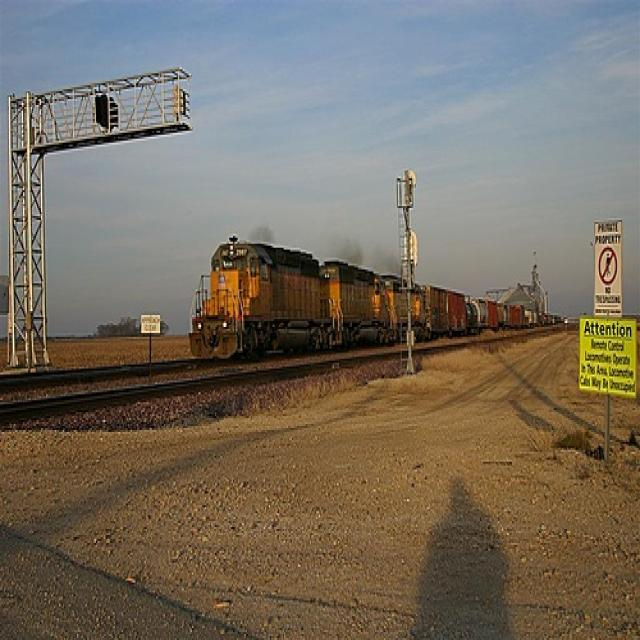train: (190, 236, 566, 360)
